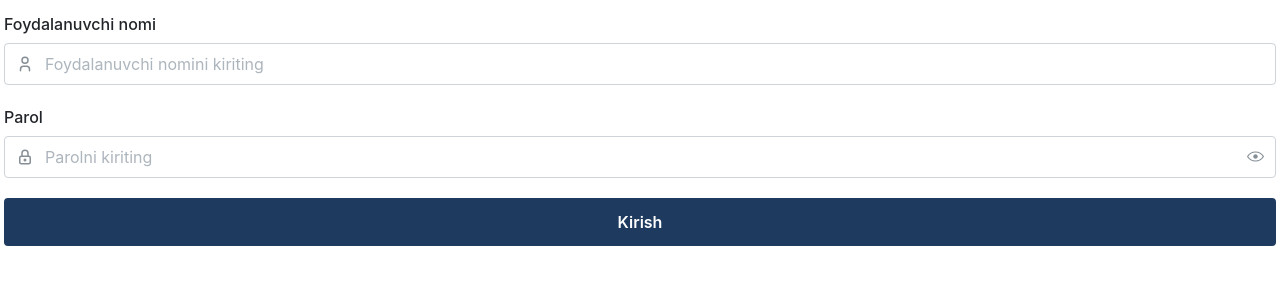
Test: LoginForm › validatsiya xatolarini ko'rsatadi
The width and height of the screenshot is (1280, 306).
In the field labelled "Foydalanuvchi nomi": (640, 64) [4, 43, 1276, 85], type "ab"
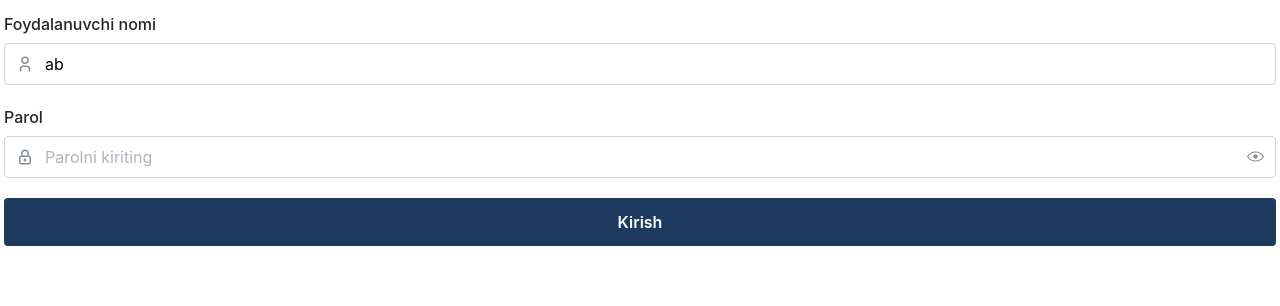
In the password field labelled "Parol": (640, 157) [5, 137, 1275, 177], type "ab"
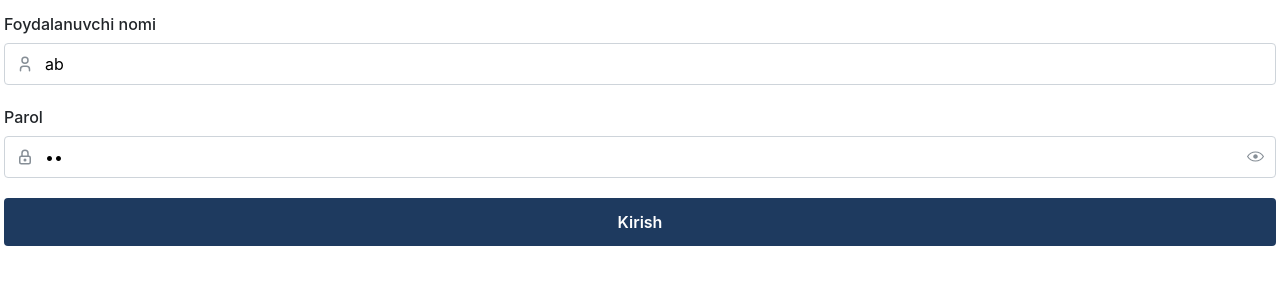
Click the button "Kirish": (640, 222) [4, 198, 1276, 246]
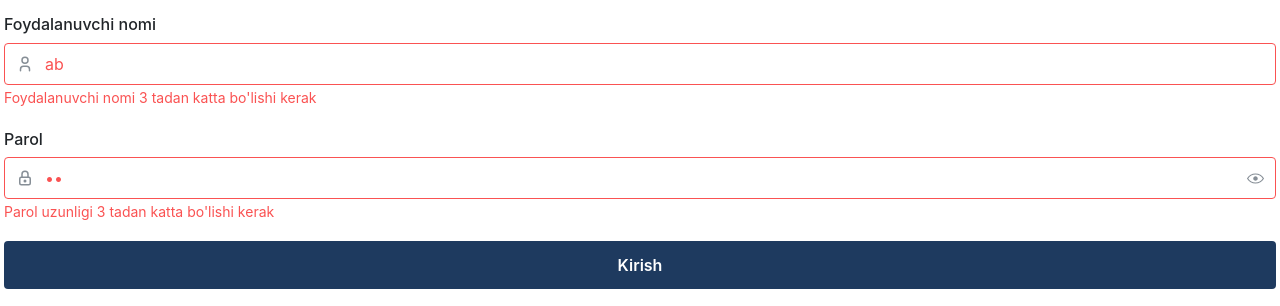
Now the text "Foydalanuvchi nomi 3 tadan katta bo'lishi kerak" is shown, box [4, 89, 316, 106]
